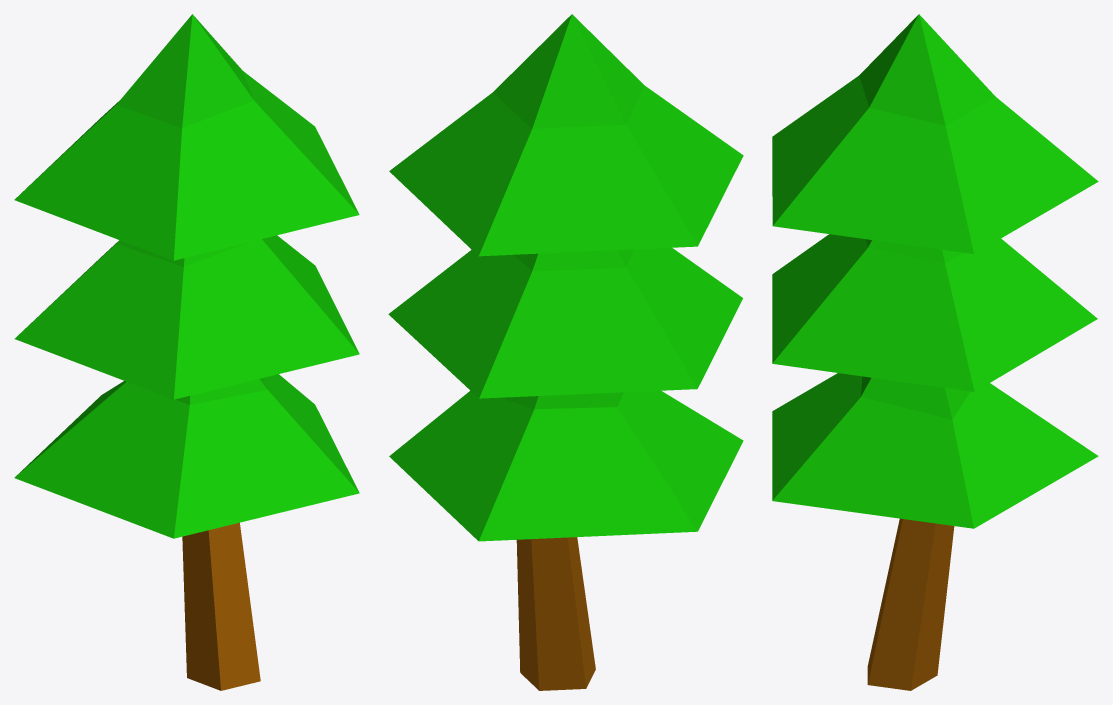
Rendered from tree.fbx.
3 views of the same model, side by side, from view 1: azimuth 30°, elevation 25°; view 2: azimuth 150°, elevation 25°; view 3: azimuth 270°, elevation 25° (orthographic). The views are drawn at different scales.
Visible parts, largest first — view 1: 円柱, 円; view 2: 円柱, 円; view 3: 円柱, 円.
Part boxes in pixels (bbox=[...]): 円柱: bbox=[14, 14, 359, 538]; 円: bbox=[182, 522, 260, 690]; 円柱: bbox=[388, 14, 743, 541]; 円: bbox=[516, 537, 595, 690]; 円柱: bbox=[772, 14, 1098, 528]; 円: bbox=[867, 518, 954, 690].
Size of the model in its own units: 892 by 1862 by 847.
